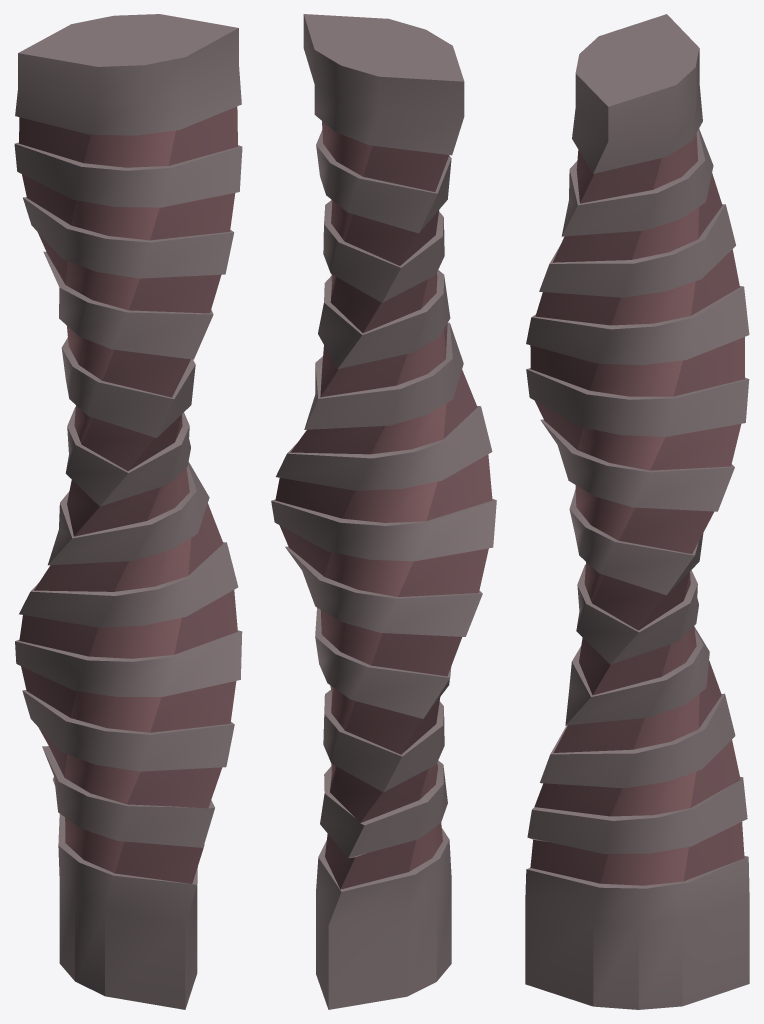
Rendered from Tall3.fbx.
3 renders of one model, left to right at view 1: azimuth 30°, elevation 25°; view 2: azimuth 150°, elevation 25°; view 3: azimuth 270°, elevation 25°, orthographic.
Visible parts, largest first — view 1: pCylinder1; view 2: pCylinder1; view 3: pCylinder1.
Part boxes in pixels (x1,y1,x2,y2): pCylinder1: (14,14,242,1009); pCylinder1: (271,14,496,1009); pCylinder1: (525,14,749,1009).
Bounding box in the file's own units: 11.77 × 52.73 × 11.61.
